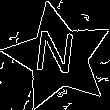N_S: (35, 29, 82, 85)
